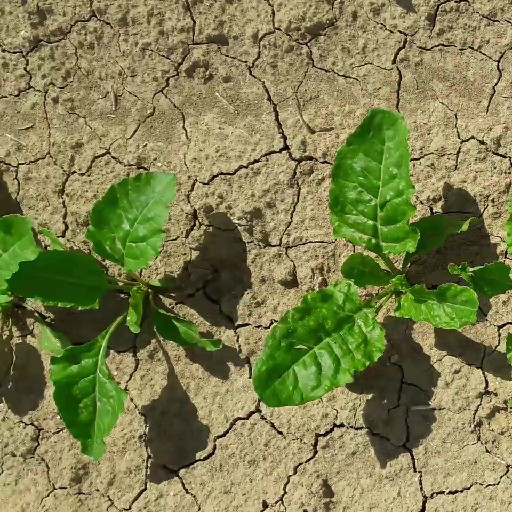sugarbeet: (247, 105, 478, 409), (1, 171, 229, 468)
